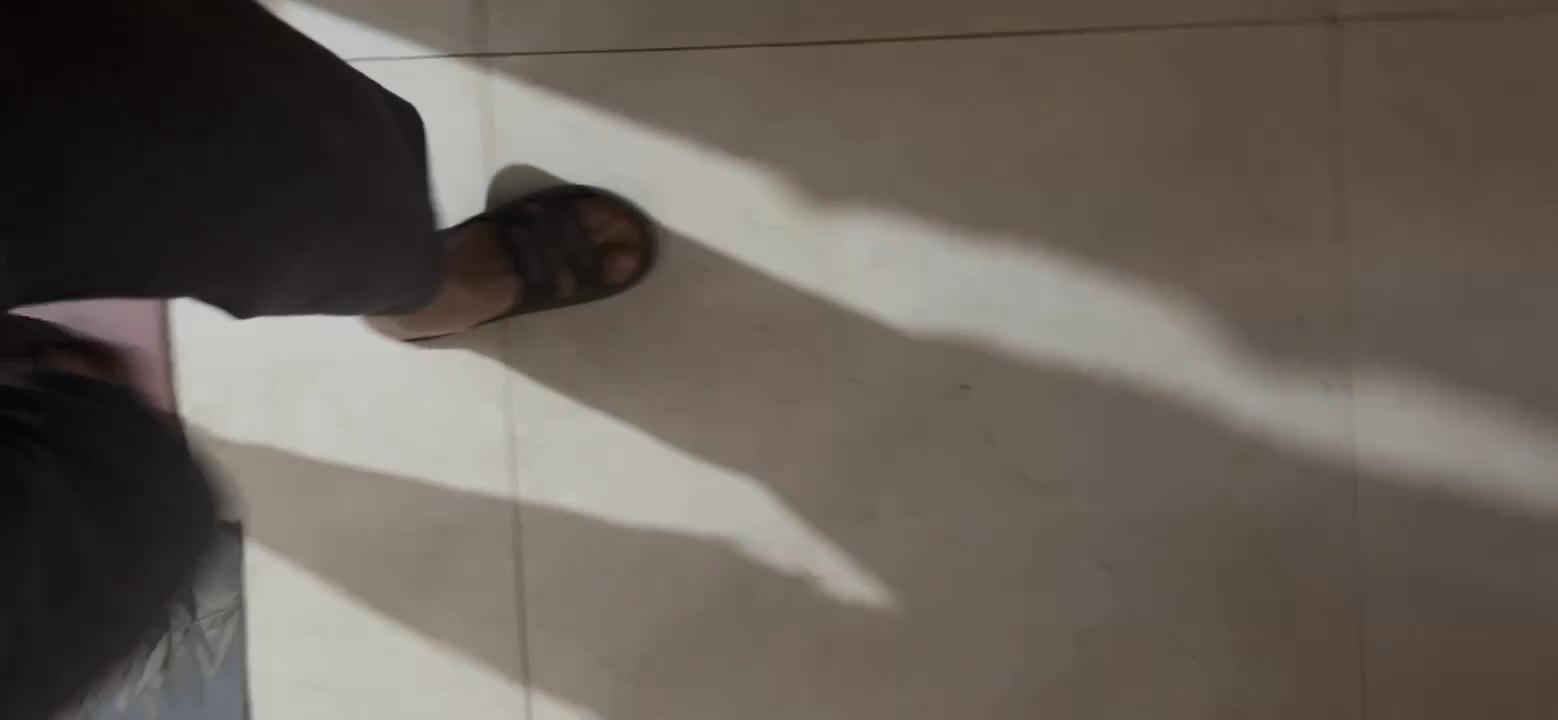no-boot: (376, 187, 678, 345)
